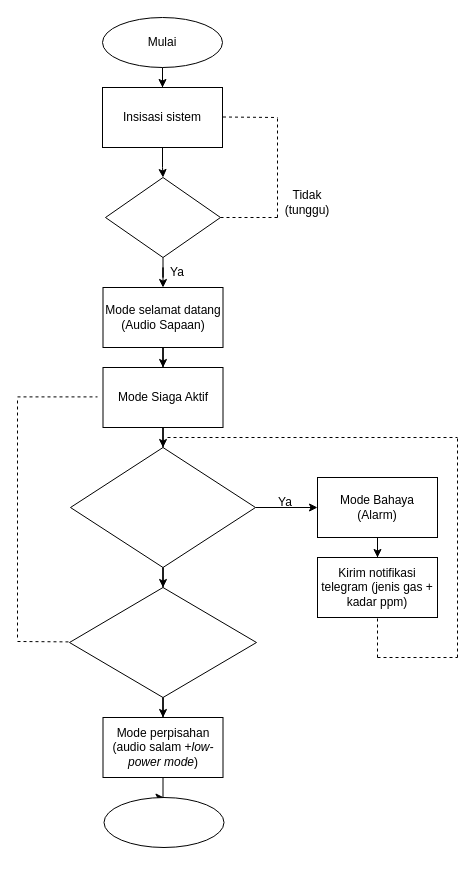
This 476x873 diagram has some shape labels left out. The shapes that lost their labels are listed below. From the top down, each one's centre as x and y in pixels, then its label:
the point at 162,217: PIR terdeteksi?
the point at 163,507: Deteksi Gas > ambang batas?
the point at 162,642: PIR idle > 30 detik?
the point at 163,822: Selesai
